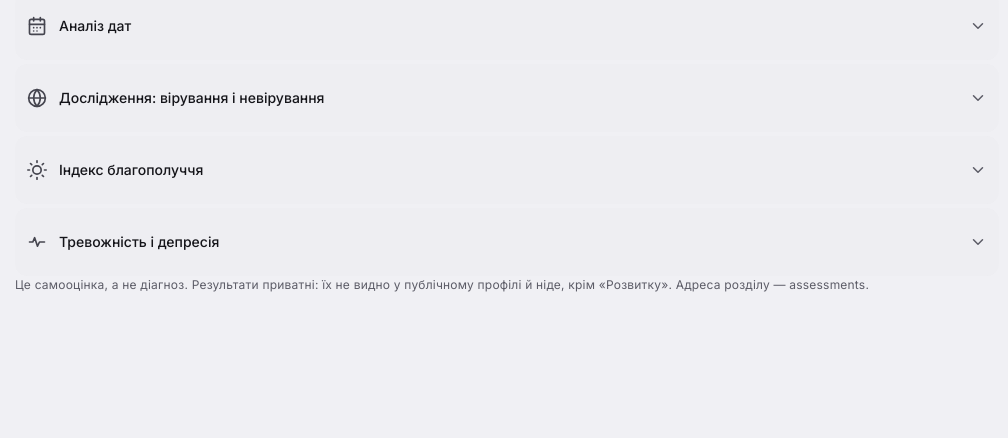
екран «Розвиток» › розгорнутий рядок показує опис і одну кнопку «Відкрити»
The image size is (1008, 438).
Click the button "Індекс благополуччя" at (131, 170), box [27,144,987,196]
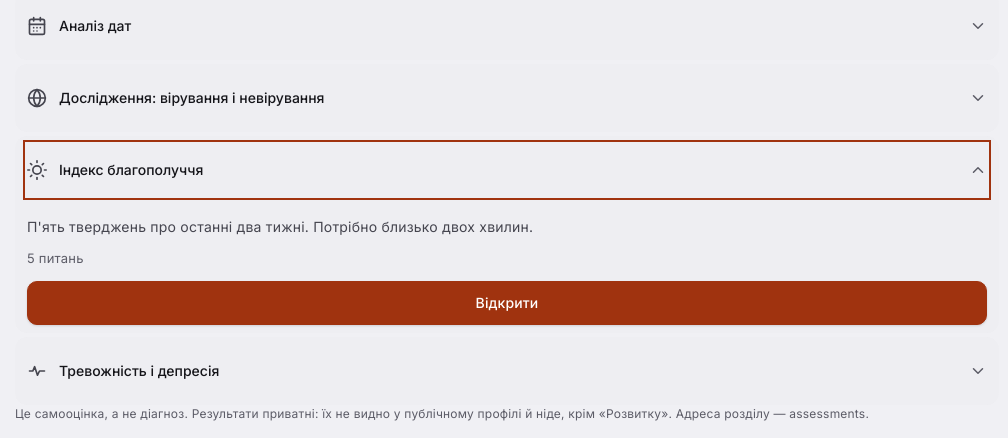
expect the button "Індекс благополуччя" is expanded: met, box [27,144,987,196]
expect the text "П'ять тверджень про останні два тижні. Потрібно близько двох хвилин." is shown: met, box [27,218,533,235]
expect the number of buttons "Відкрити" is 1: met, box [27,280,987,324]
